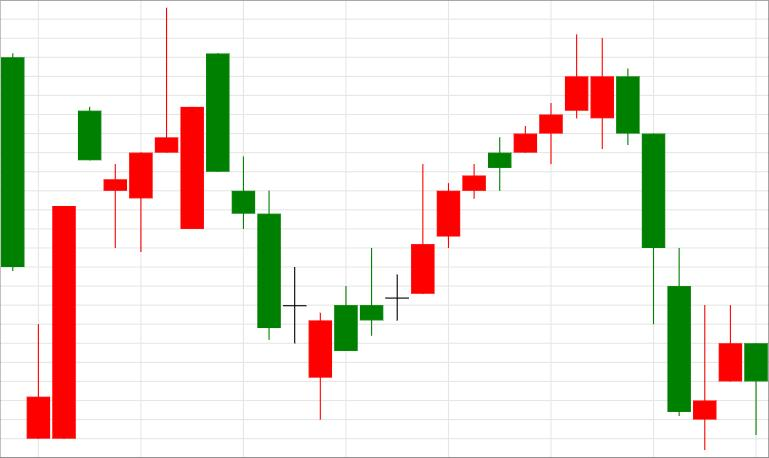shooting_star_fall: (411, 34, 588, 294)
three_black_crows_fall: (411, 34, 691, 417), (104, 7, 281, 339)
